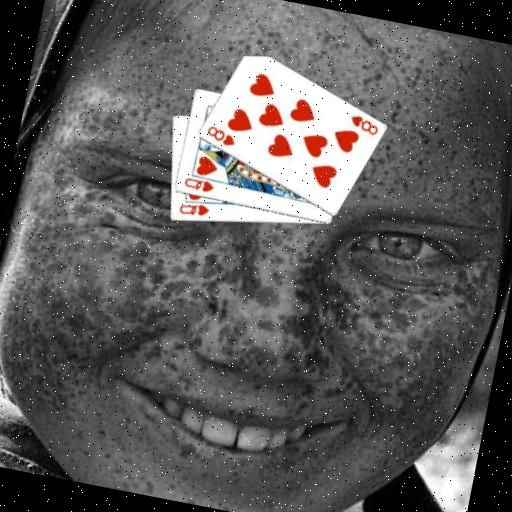8H: (202, 122, 239, 149), (345, 111, 382, 138)
QH: (175, 198, 211, 221), (180, 174, 216, 196)
